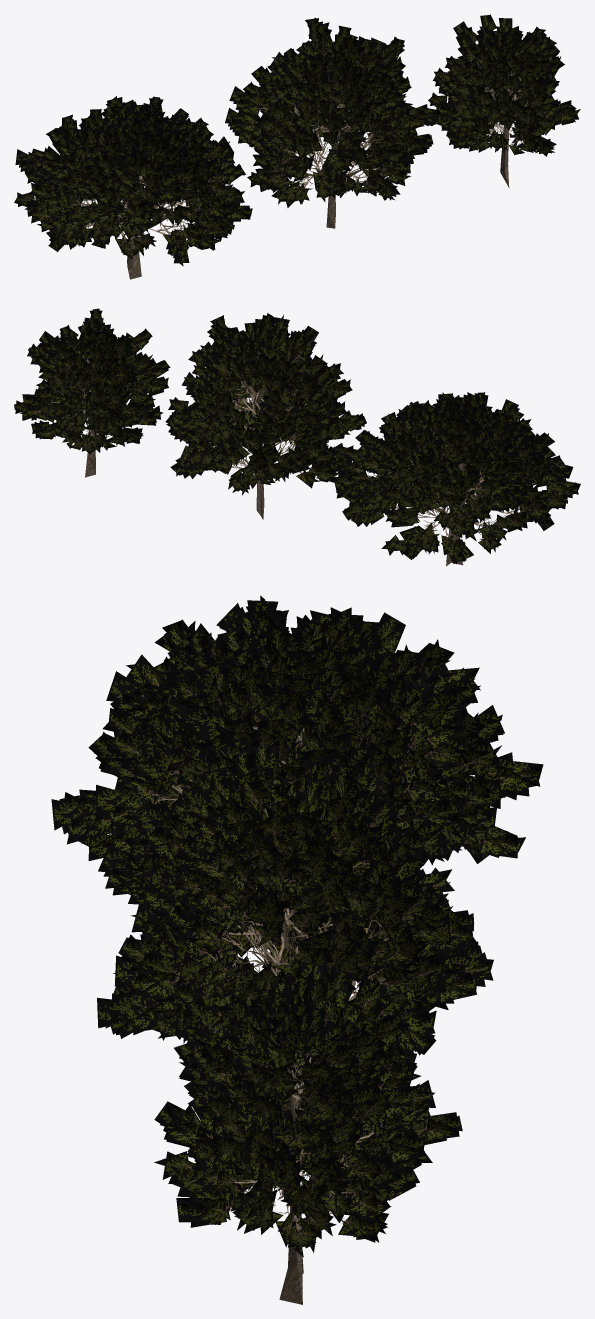
File: grove.glb
3 renders of one model, top to bottom at view 1: azimuth 30°, elevation 25°; view 2: azimuth 150°, elevation 25°; view 3: azimuth 270°, elevation 25°, orthographic. The views are drawn at different scales.
Visible parts, largest first — view 1: Model__Leaf, Model__Branch, Model__Bark; view 2: Model__Leaf, Model__Branch, Model__Bark; view 3: Model__Leaf, Model__Branch, Model__Bark.
Boxes of the visible parts, bbox=[...] form: Model__Leaf: bbox=[14, 14, 580, 266]; Model__Branch: bbox=[29, 43, 562, 248]; Model__Bark: bbox=[117, 74, 522, 279]; Model__Leaf: bbox=[14, 308, 580, 564]; Model__Branch: bbox=[51, 342, 548, 545]; Model__Bark: bbox=[85, 362, 483, 565]; Model__Leaf: bbox=[51, 595, 543, 1257]; Model__Branch: bbox=[108, 643, 491, 1232]; Model__Bark: bbox=[230, 728, 372, 1304].
Size of the model in its own units: 11.52 by 4.05 by 4.64.
Materials: 3 (3 with a texture image).
